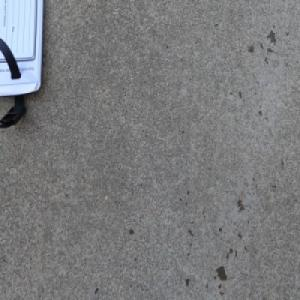LuggageTag: (0, 0, 46, 130)
